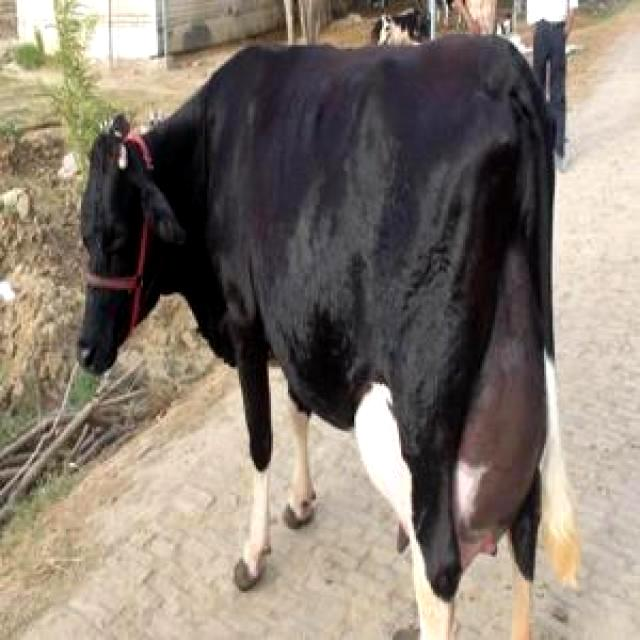COW: (79, 36, 579, 639)
